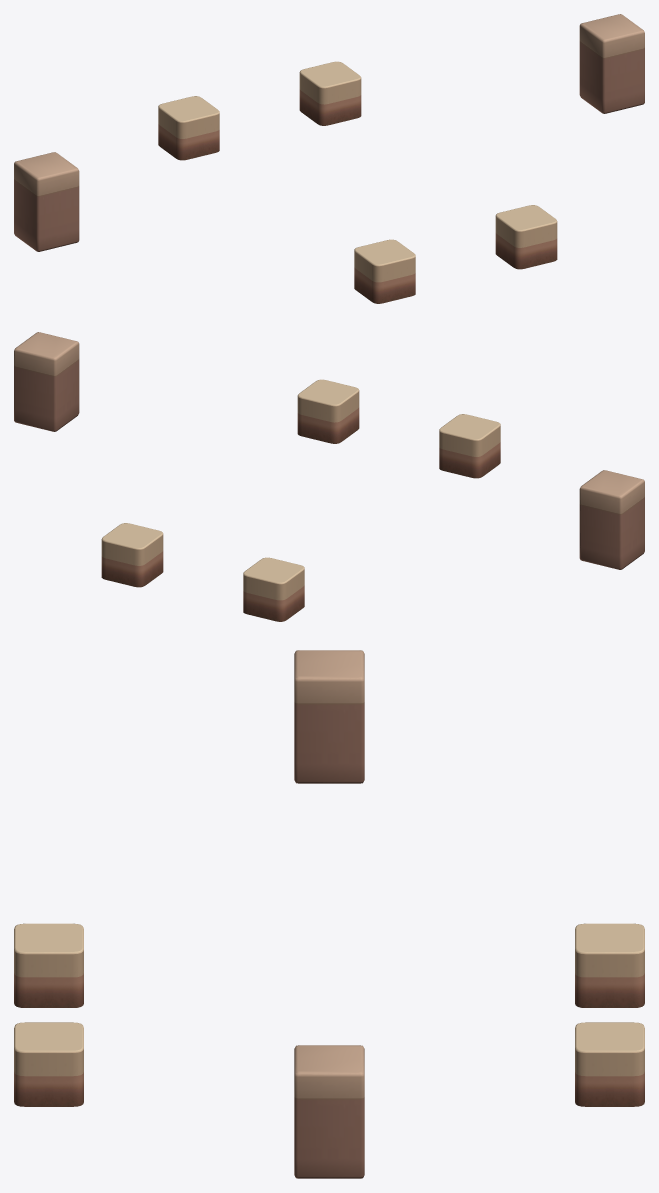
Rendered from Props.fbx.
3 renders of one model, top to bottom at view 1: azimuth 30°, elevation 25°; view 2: azimuth 150°, elevation 25°; view 3: azimuth 270°, elevation 25°, orthographic. The views are drawn at different scales.
Visible parts, largest first — view 1: Box03 (1), Box03, Box01 (1), Box01 (3), Box01 (2), Box01; view 2: Box03 (1), Box03, Box01 (3), Box01 (1), Box01, Box01 (2); view 3: Box03, Box03 (1), Box01 (1), Box01 (3), Box01, Box01 (2).
Boxes of the visible parts, <box> form: Box03 (1): <box>579,14,644,113</box>; Box03: <box>14,152,79,251</box>; Box01 (1): <box>495,205,557,269</box>; Box01 (3): <box>299,61,361,125</box>; Box01 (2): <box>158,96,219,160</box>; Box01: <box>354,239,415,303</box>; Box03 (1): <box>14,332,79,431</box>; Box03: <box>579,470,644,569</box>; Box01 (3): <box>101,523,163,587</box>; Box01 (1): <box>297,379,359,443</box>; Box01: <box>439,414,500,478</box>; Box01 (2): <box>243,557,304,621</box>; Box03: <box>294,650,364,783</box>; Box03 (1): <box>294,1045,364,1178</box>; Box01 (1): <box>14,1022,83,1106</box>; Box01 (3): <box>575,1022,644,1106</box>; Box01: <box>14,923,83,1007</box>; Box01 (2): <box>575,923,644,1007</box>.
Bounding box in the file's own units: 43 × 7.62 × 27.
